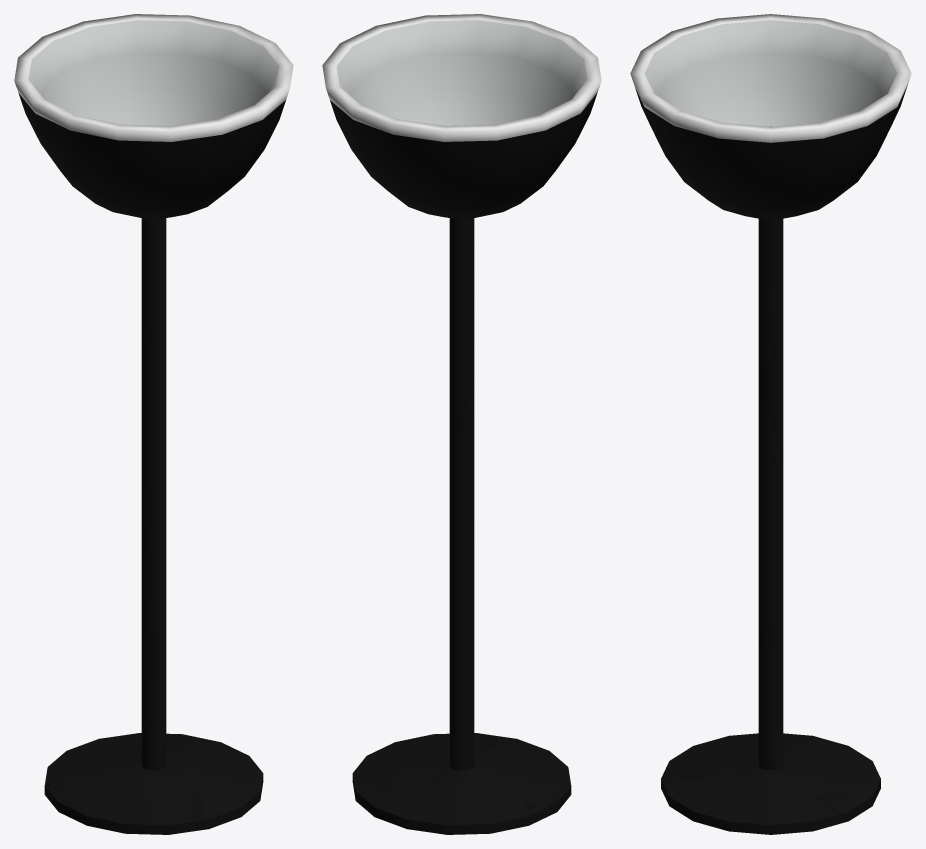
File: Mesh_LivingRoomLamp.fbx
3 views of the same model, side by side, from view 1: azimuth 30°, elevation 25°; view 2: azimuth 150°, elevation 25°; view 3: azimuth 270°, elevation 25° (orthographic).
Parts seen in each view (by area): view 1: LivingRoomLamp; view 2: LivingRoomLamp; view 3: LivingRoomLamp.
Boxes of the visible parts, left/top/right/bottom form: LivingRoomLamp: left=14, top=14, right=293, bottom=834; LivingRoomLamp: left=322, top=14, right=601, bottom=834; LivingRoomLamp: left=630, top=14, right=911, bottom=834.
Bounding box in the file's own units: 0.7916 × 2.22 × 0.7916.
